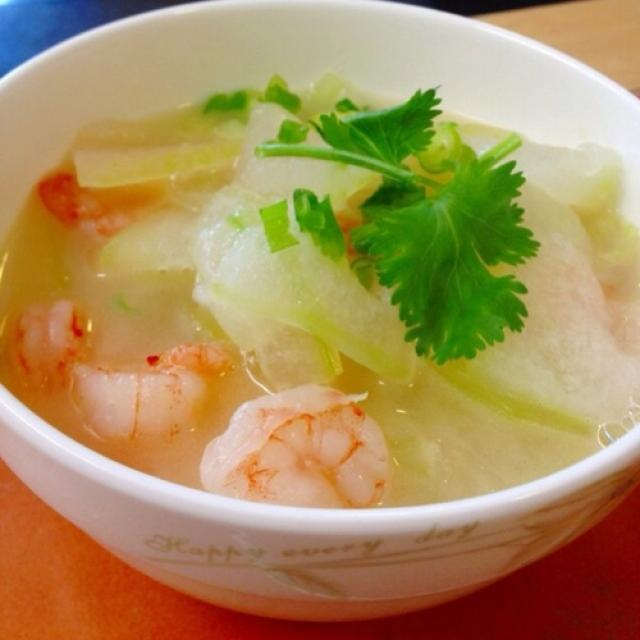汤锅炖物: (4, 18, 603, 608)
